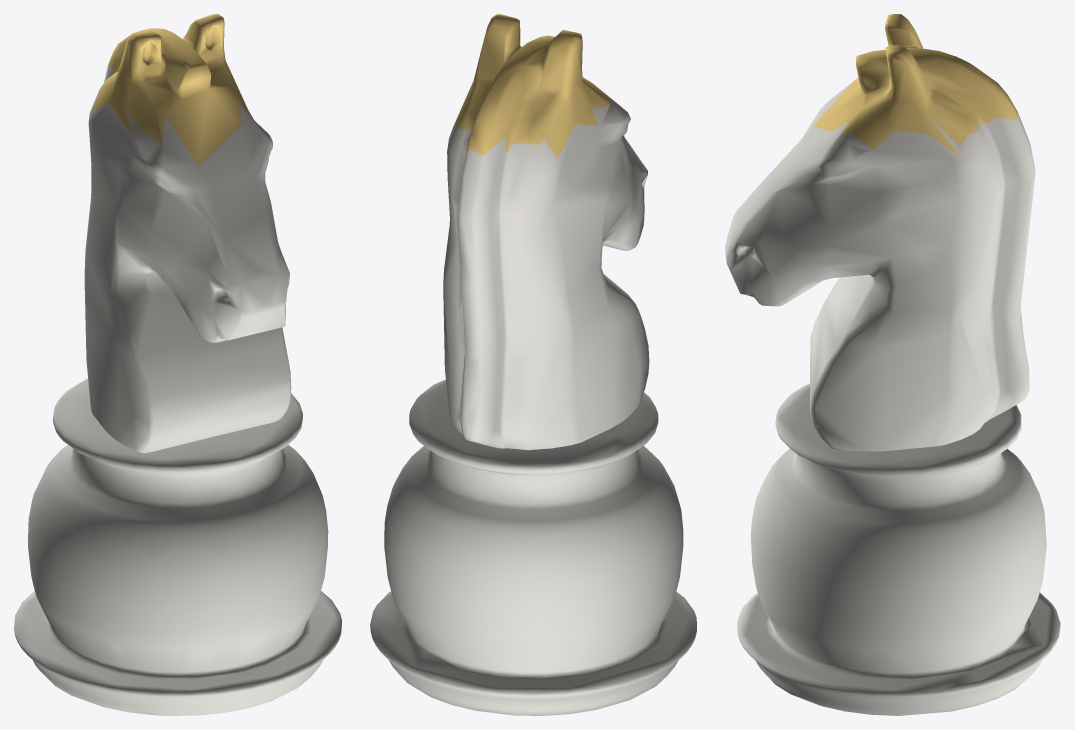
Rendered from gercek7_n_w.glb.
3 renders of one model, left to right at view 1: azimuth 30°, elevation 25°; view 2: azimuth 150°, elevation 25°; view 3: azimuth 270°, elevation 25°, orthographic.
Visible parts, largest first — view 1: n_w; view 2: n_w; view 3: n_w.
Boxes of the visible parts, <box> form: n_w: <box>14,14,341,715</box>; n_w: <box>370,14,696,715</box>; n_w: <box>725,14,1060,715</box>.
Bounding box in the file's own units: 0.4211 × 0.9 × 0.4364.
